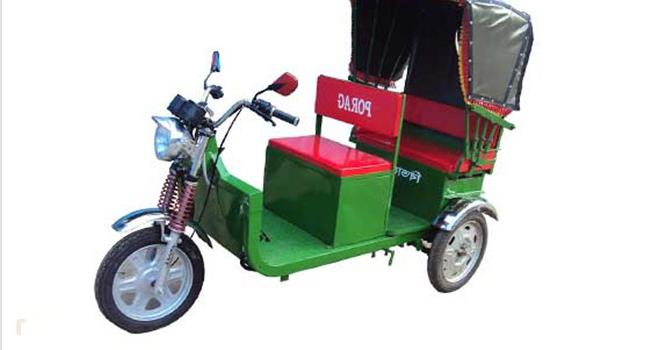Rickshaw: (76, 1, 539, 339)
